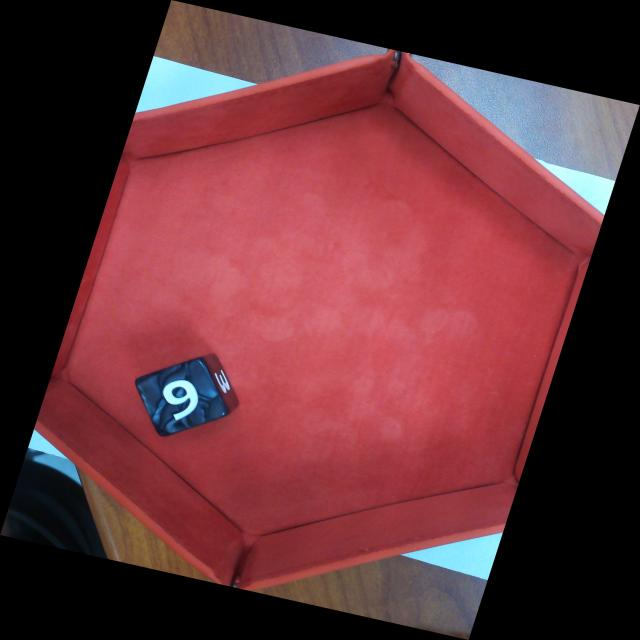dice: (136, 355, 232, 439)
